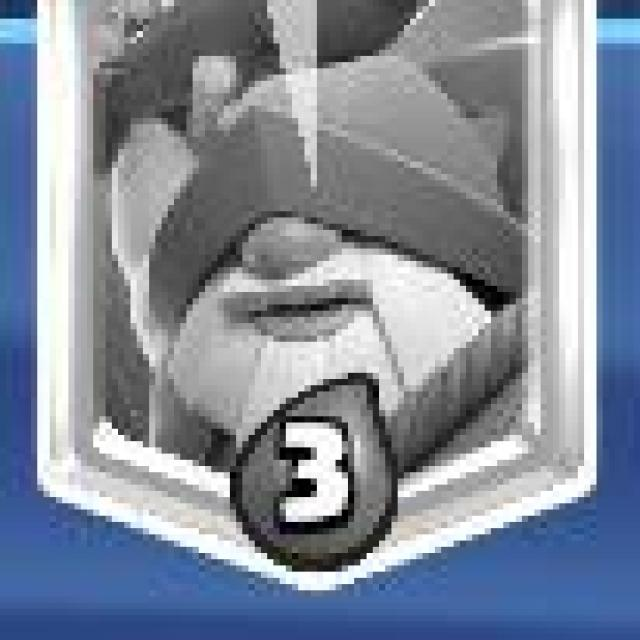Fisherman: (36, 0, 595, 603)
